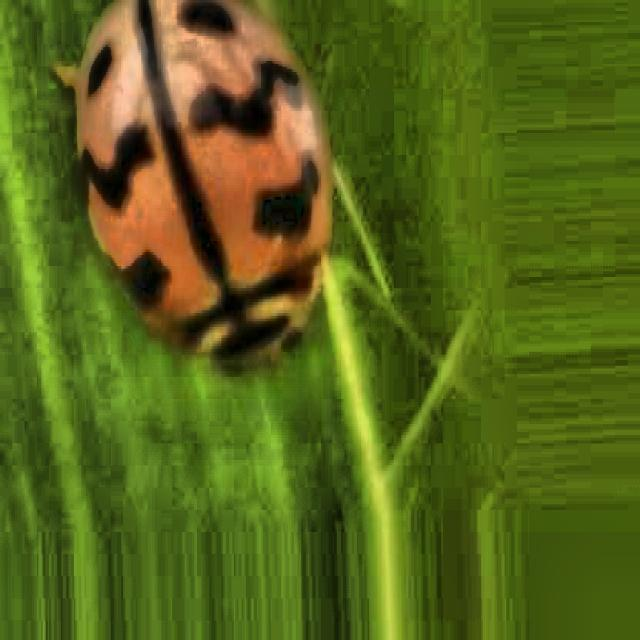Asian-Lady-beetle: (62, 1, 352, 372)
